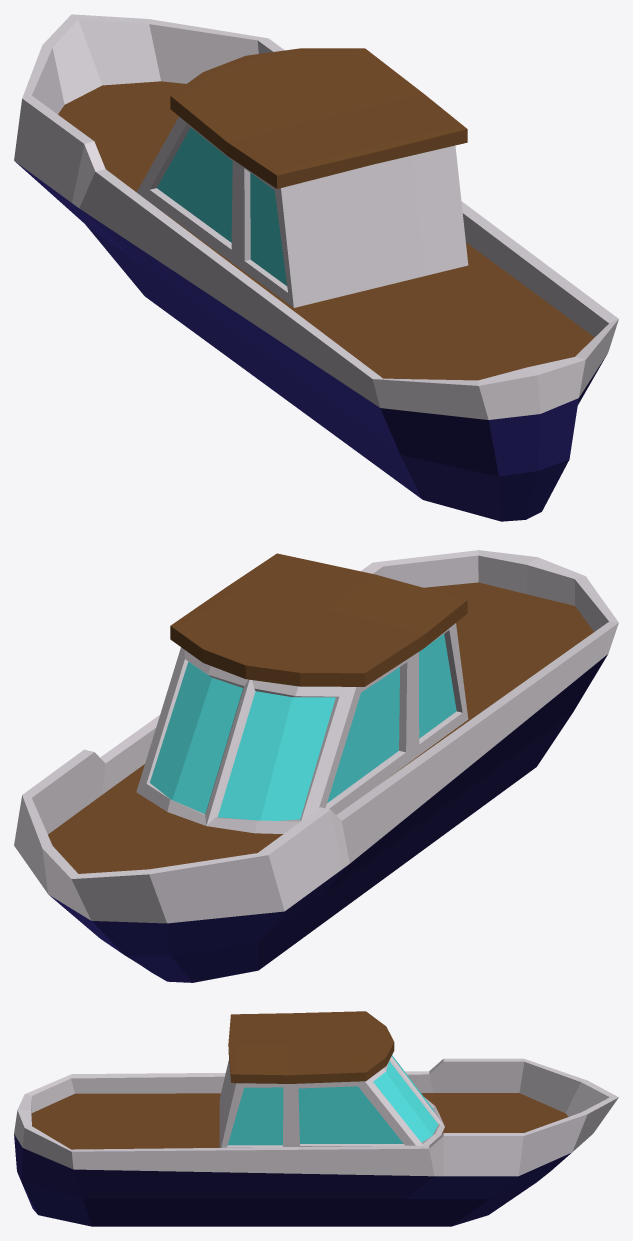
The model's file is Boat01.fbx.
3 views of the same model, one above another, from view 1: azimuth 30°, elevation 25°; view 2: azimuth 150°, elevation 25°; view 3: azimuth 270°, elevation 25° (orthographic). The views are drawn at different scales.
Visible parts, largest first — view 1: Cube, Cube.002; view 2: Cube, Cube.002; view 3: Cube, Cube.002.
Boxes of the visible parts, x1=… form: Cube: x1=14, y1=14, x2=618, y2=521; Cube.002: x1=136, y1=48, x2=468, y2=307; Cube: x1=14, y1=550, x2=618, y2=982; Cube.002: x1=136, y1=553, x2=468, y2=833; Cube: x1=14, y1=1058, x2=618, y2=1226; Cube.002: x1=219, y1=1011, x2=444, y2=1147.
Bounding box in the file's own units: 185 × 169 × 555.
